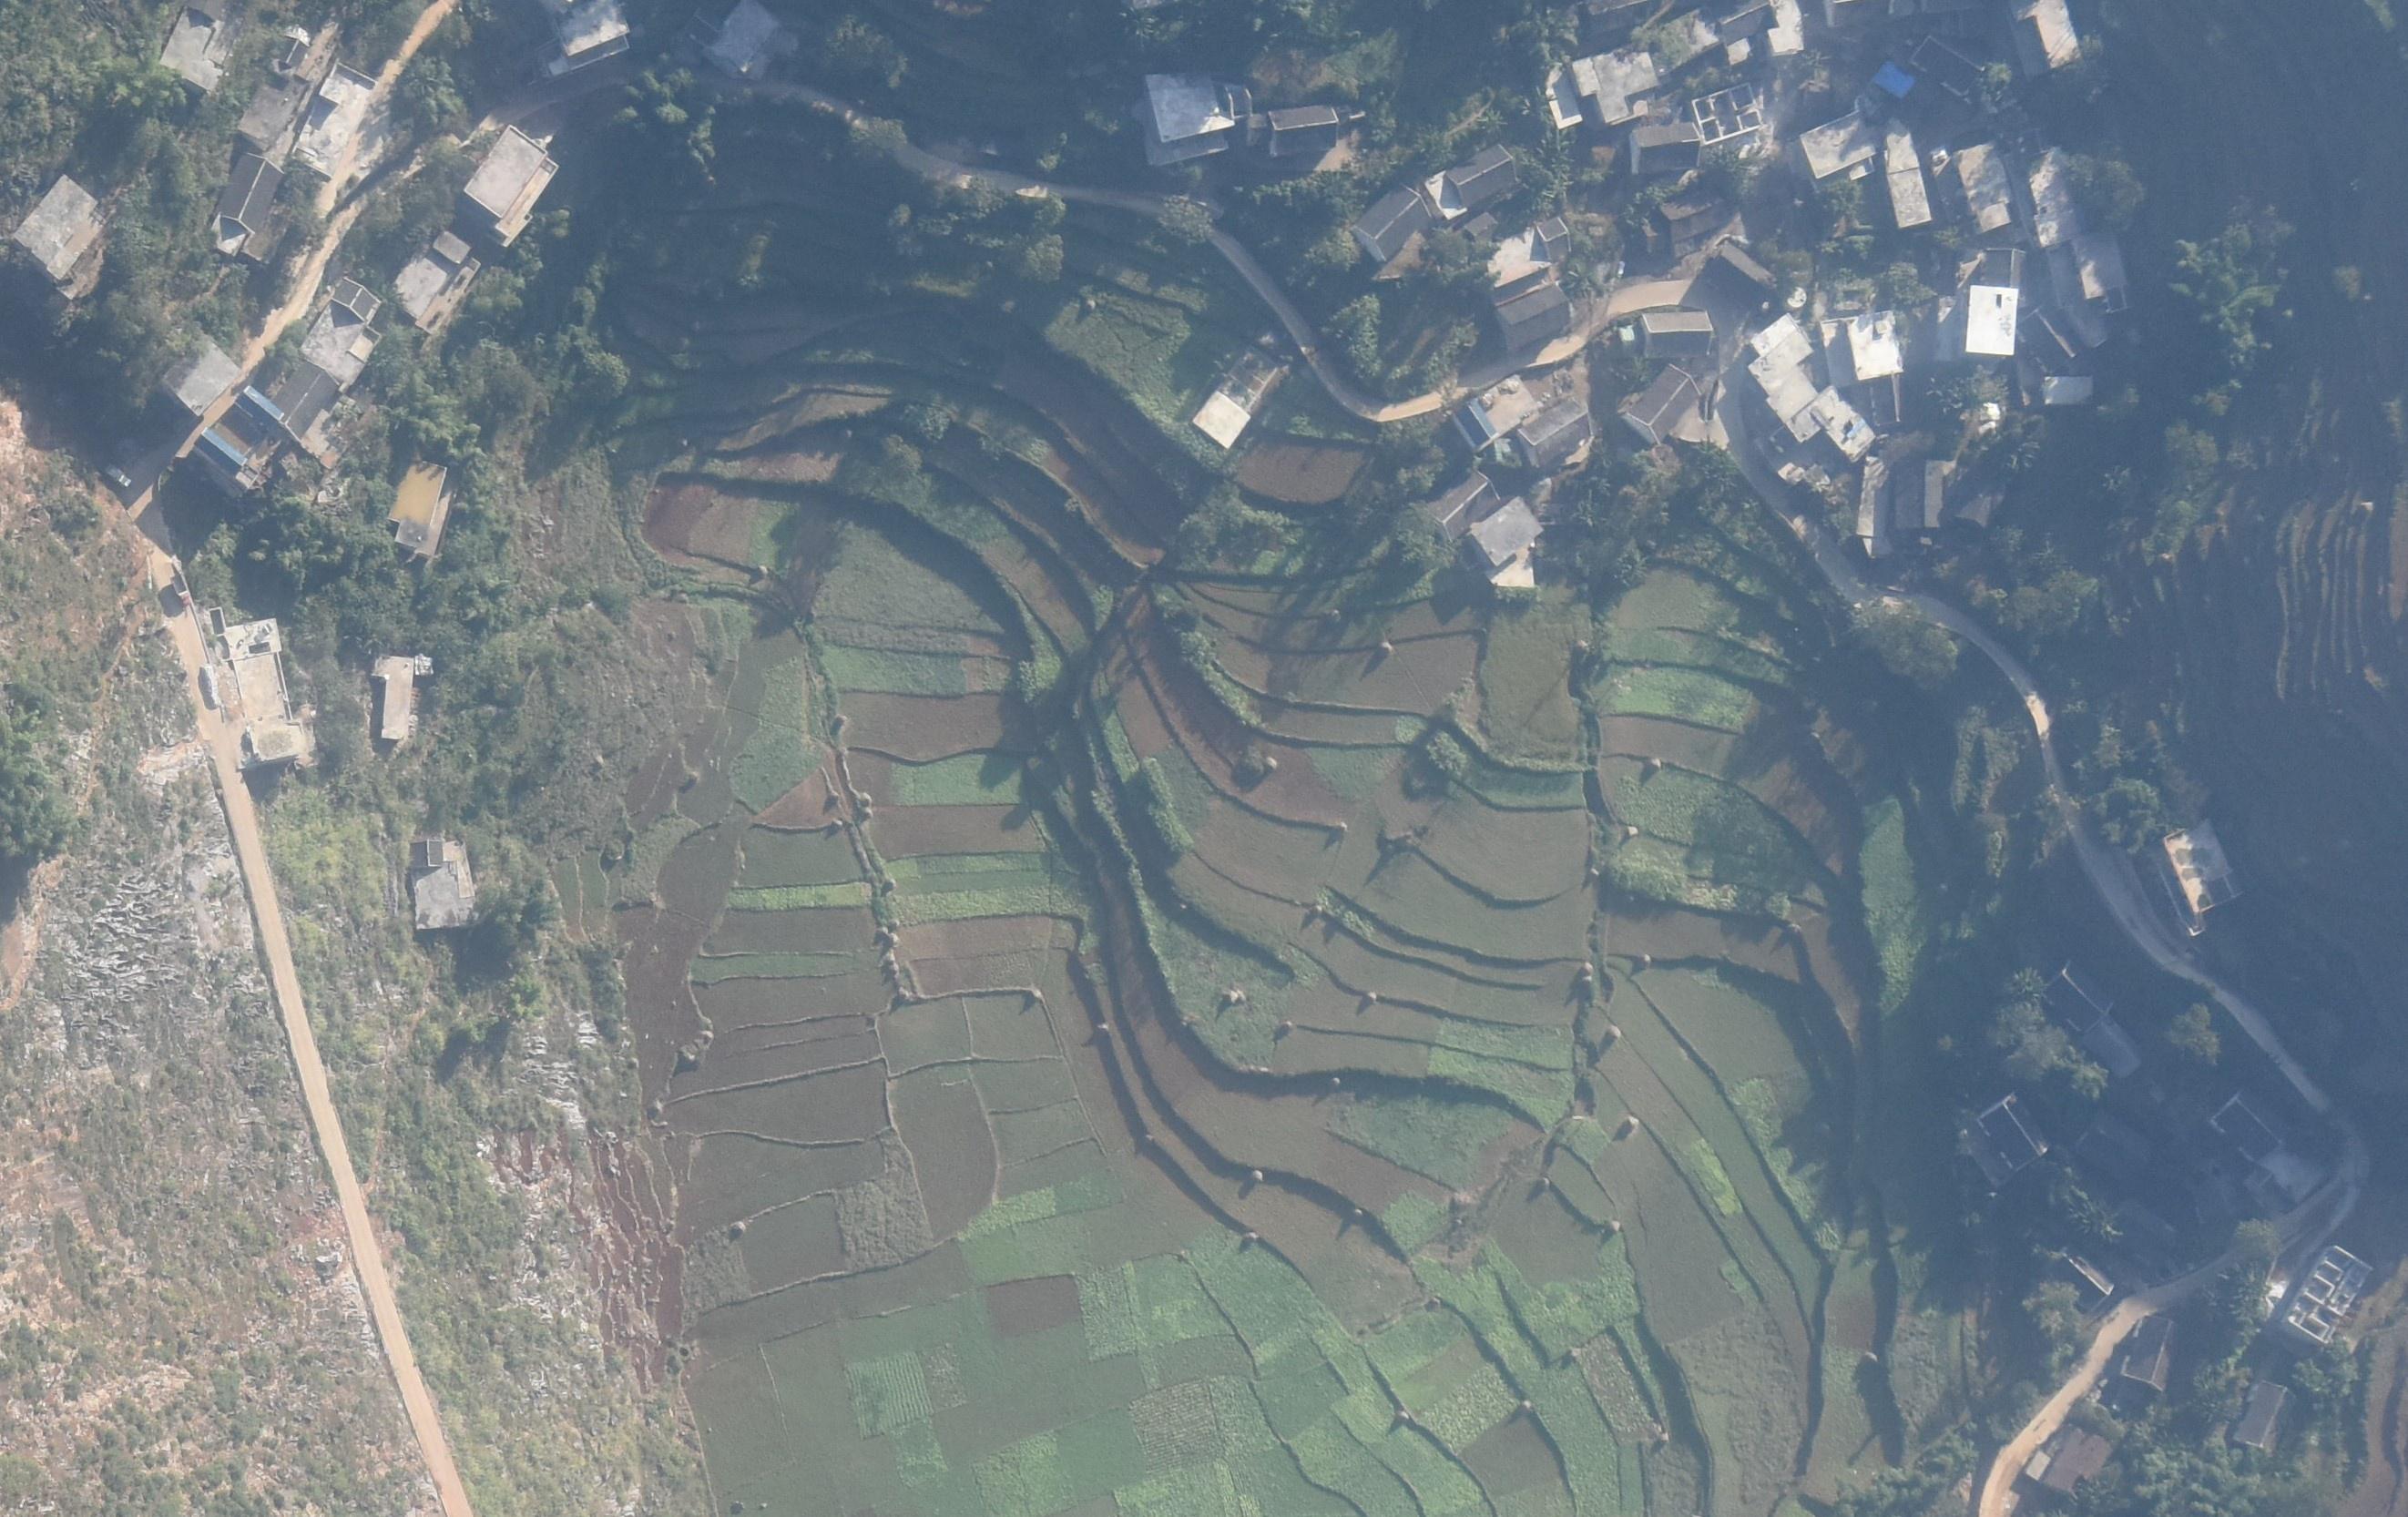building: (1748, 313, 1877, 457), (1796, 108, 1932, 231), (212, 616, 305, 767), (463, 123, 561, 244), (11, 175, 110, 279), (1142, 69, 1250, 165), (293, 60, 379, 179), (389, 227, 482, 335), (1191, 339, 1281, 449), (2165, 819, 2246, 937), (2285, 1245, 2373, 1350), (299, 277, 383, 384), (271, 358, 346, 471), (513, 2, 629, 73), (2014, 128, 2082, 248), (2018, 1420, 2113, 1499), (681, 1, 779, 76), (1818, 311, 1903, 390), (1573, 45, 1657, 124), (388, 458, 453, 559), (2007, 1, 2084, 84), (1625, 363, 1700, 445), (162, 337, 240, 415), (2108, 1195, 2187, 1272), (1975, 1092, 2051, 1172), (408, 841, 477, 929), (1940, 285, 2016, 361), (1355, 183, 1433, 258), (1466, 494, 1545, 567), (158, 7, 224, 94), (2119, 1315, 2192, 1391), (238, 68, 310, 146), (2213, 1086, 2287, 1160), (1951, 138, 2011, 229), (219, 151, 285, 231), (2042, 960, 2113, 1033), (1646, 7, 1721, 76), (1423, 471, 1499, 539), (2234, 1379, 2301, 1456), (1517, 399, 1592, 466), (2076, 1114, 2150, 1181), (2072, 229, 2131, 312), (2016, 302, 2082, 373), (1914, 35, 1988, 97), (1497, 279, 1568, 342), (1691, 81, 1763, 142), (2080, 1015, 2145, 1081), (1657, 185, 1728, 243), (1447, 140, 1515, 200), (1892, 460, 1947, 529), (1711, 246, 1776, 304), (1629, 120, 1700, 170), (2056, 1247, 2113, 1309), (376, 653, 414, 739), (1266, 107, 1340, 151), (1643, 311, 1714, 356), (1581, 1, 1661, 39), (1764, 1, 1811, 60), (1979, 249, 2029, 303), (195, 429, 247, 474), (235, 385, 284, 433), (1454, 397, 1497, 450), (1718, 4, 1776, 40), (1872, 374, 1913, 423), (1536, 215, 1572, 260), (2042, 376, 2094, 402), (277, 37, 308, 70)
prefabricated-house: (1873, 63, 1914, 98)
vehicle: (169, 570, 195, 606), (102, 465, 132, 485)
well: (1784, 285, 1808, 309)
